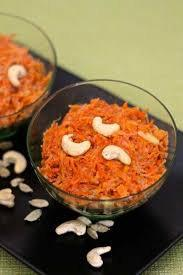Gajar ka halwa: (30, 83, 176, 210), (1, 10, 50, 122)
